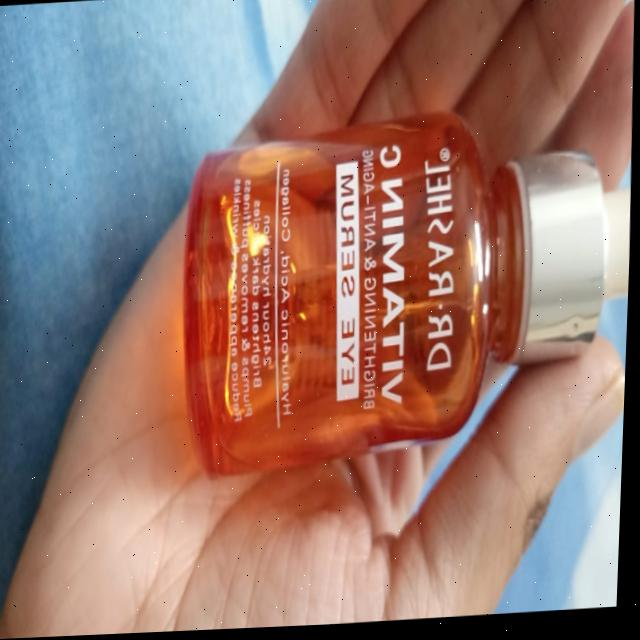serum: (156, 90, 637, 508)
